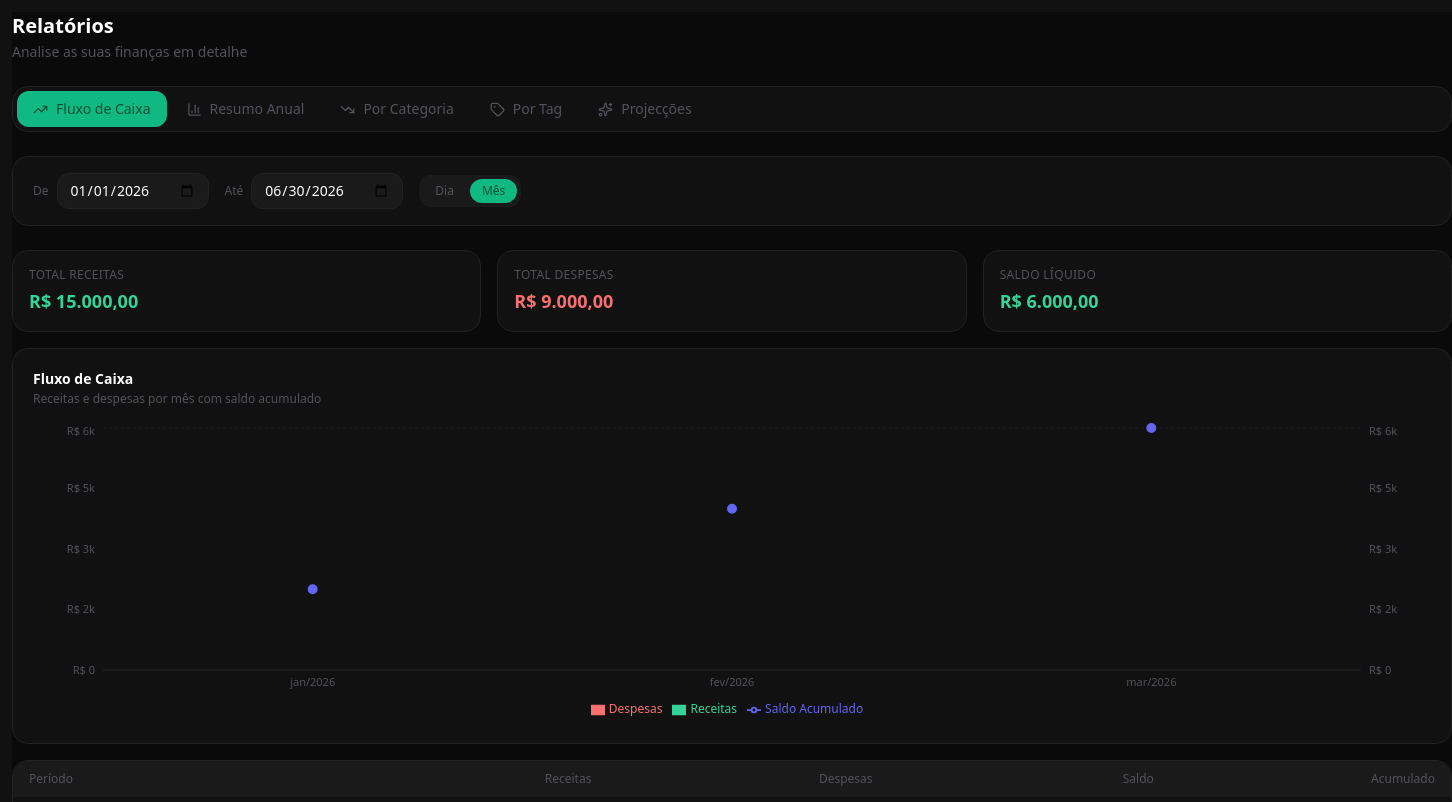
Test: ReportsPage › deve exibir nota explicativa das projecções
The width and height of the screenshot is (1452, 802).
Click the button "Projecções" at (645, 109), box [582,91,708,127]
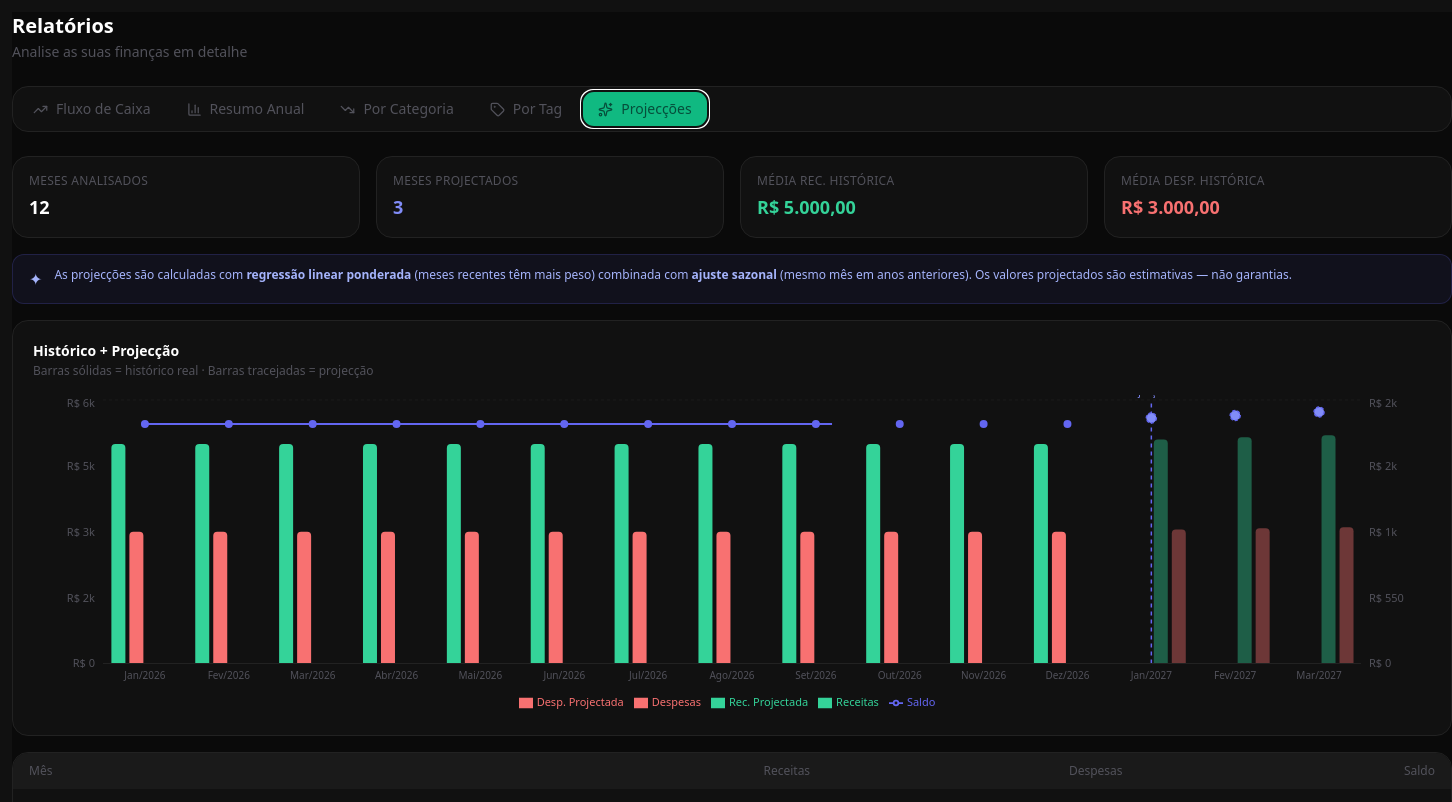
Check: the text "regressão linear ponderada" is shown, box [246,266,411,283]
